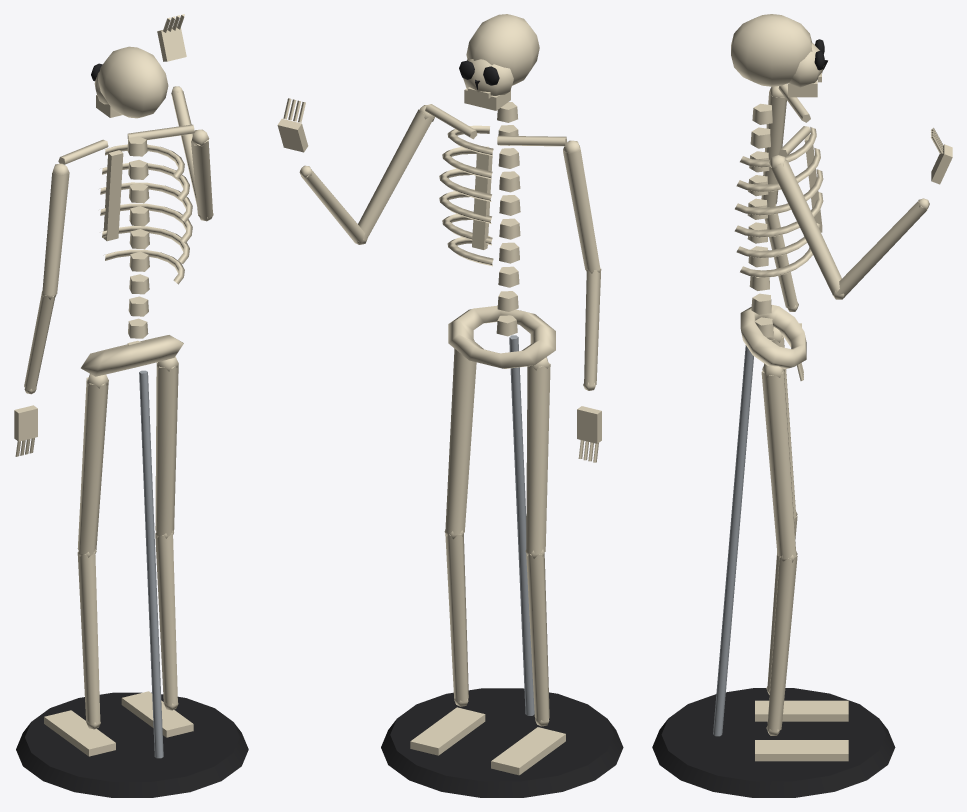
File: SKELETON.glb
3 views of the same model, side by side, from view 1: azimuth 30°, elevation 25°; view 2: azimuth 150°, elevation 25°; view 3: azimuth 270°, elevation 25° (orthographic). The views are drawn at different scales.
Parts seen in each view (by area): view 1: bone_2, tread_0, steel_1; view 2: bone_2, tread_0, steel_1; view 3: bone_2, tread_0, steel_1.
Part boxes in pixels (x1=…): bone_2: x1=14, y1=14, x2=213, y2=756; tread_0: x1=16, y1=63, x2=248, y2=797; steel_1: x1=139, y1=370, x2=163, y2=758; bone_2: x1=277, y1=14, x2=601, y2=775; tread_0: x1=381, y1=60, x2=623, y2=797; steel_1: x1=509, y1=335, x2=534, y2=715; bone_2: x1=731, y1=14, x2=952, y2=761; tread_0: x1=652, y1=39, x2=895, y2=797; steel_1: x1=713, y1=345, x2=753, y2=736.
Size of the model in its own units: 0.605 by 1.72 by 0.6428.
